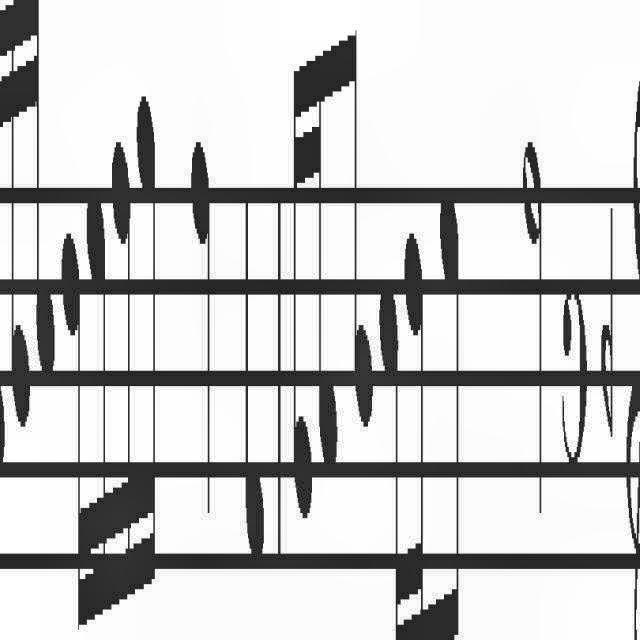Bass-clef: (623, 10, 640, 640), (639, 10, 640, 640)
Bemol: (596, 182, 618, 438)
Eighth-note: (349, 1, 378, 412), (436, 192, 462, 640)
Half-note: (516, 104, 548, 526)
Quarter-note: (192, 102, 216, 570), (238, 212, 268, 556)
Sixteenth-note: (314, 11, 342, 521), (285, 49, 313, 550), (87, 136, 113, 640), (136, 67, 160, 608), (60, 183, 85, 640), (406, 162, 429, 640), (31, 0, 57, 380), (376, 264, 402, 640), (115, 114, 134, 618), (7, 0, 29, 432), (1, 0, 8, 492)
